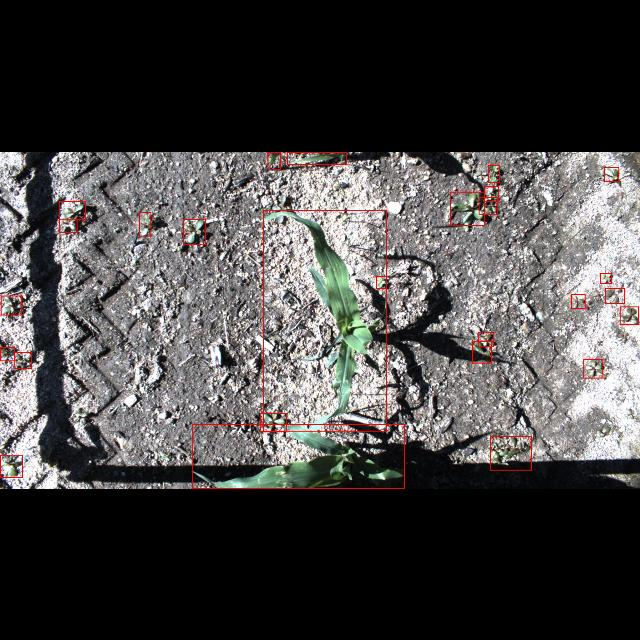crop: (264, 210, 386, 430), (192, 424, 404, 488), (288, 151, 346, 163), (268, 152, 280, 168)
weed: (491, 436, 532, 470), (450, 191, 484, 225), (184, 218, 206, 244), (260, 412, 286, 432), (59, 200, 85, 220), (0, 455, 22, 477), (472, 341, 492, 363), (1, 296, 22, 314), (478, 196, 498, 214), (584, 358, 602, 378), (620, 306, 638, 324), (139, 211, 151, 235), (14, 352, 32, 368), (606, 287, 624, 303), (59, 218, 77, 232), (478, 332, 494, 346), (488, 164, 499, 182), (485, 186, 499, 200), (571, 294, 585, 308), (604, 166, 618, 180), (0, 348, 14, 360), (376, 276, 386, 288), (600, 273, 612, 283)
